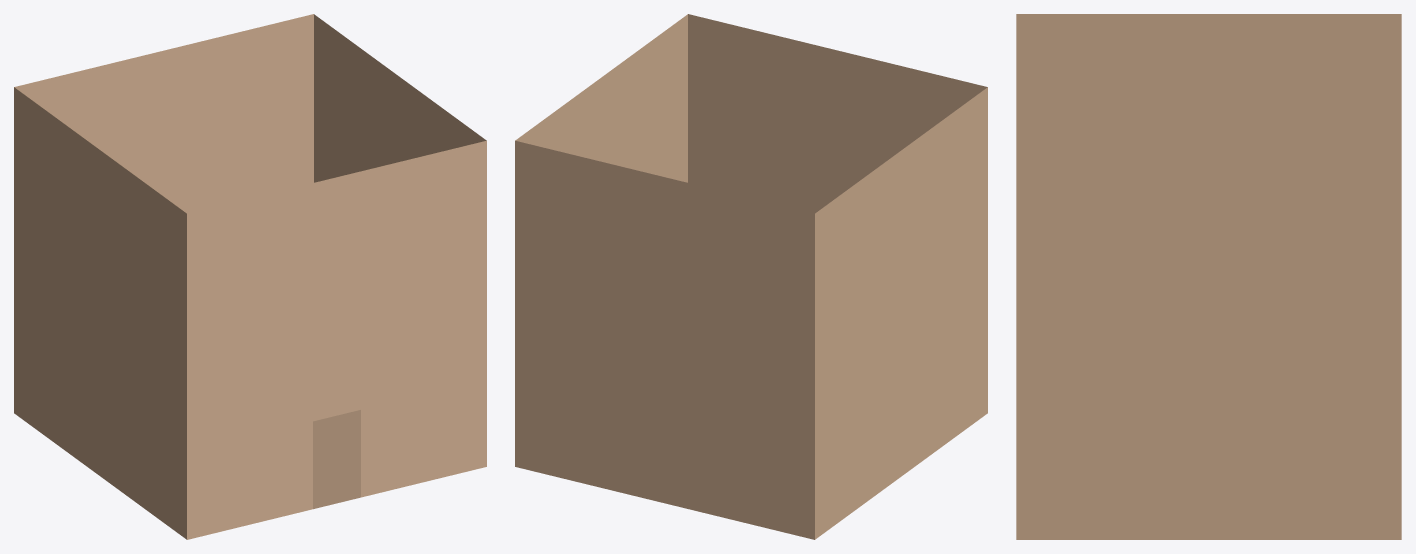
3 views of the same model, side by side, from view 1: azimuth 30°, elevation 25°; view 2: azimuth 150°, elevation 25°; view 3: azimuth 270°, elevation 25° (orthographic). The views are drawn at different scales.
Visible parts, largest first — view 1: cardboardBoxClosed(Clone); view 2: cardboardBoxClosed(Clone); view 3: cardboardBoxClosed(Clone).
Boxes of the visible parts, <box> form: cardboardBoxClosed(Clone): <box>14,14,486,539</box>; cardboardBoxClosed(Clone): <box>515,14,987,539</box>; cardboardBoxClosed(Clone): <box>1016,14,1401,539</box>.
Size of the model in its own units: 0.2125 by 0.221 by 0.2125.
